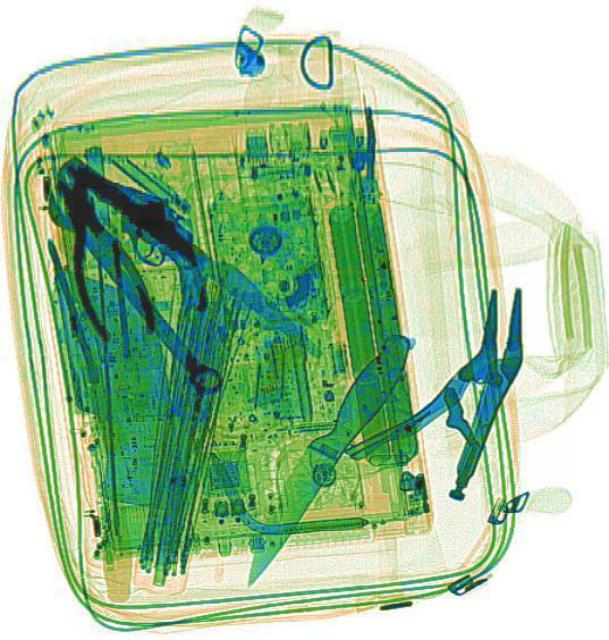Gun: (28, 148, 241, 312)
Knife: (58, 143, 331, 363), (225, 323, 420, 594)
Pliers: (34, 166, 164, 346)
Wrench: (34, 170, 235, 402)
